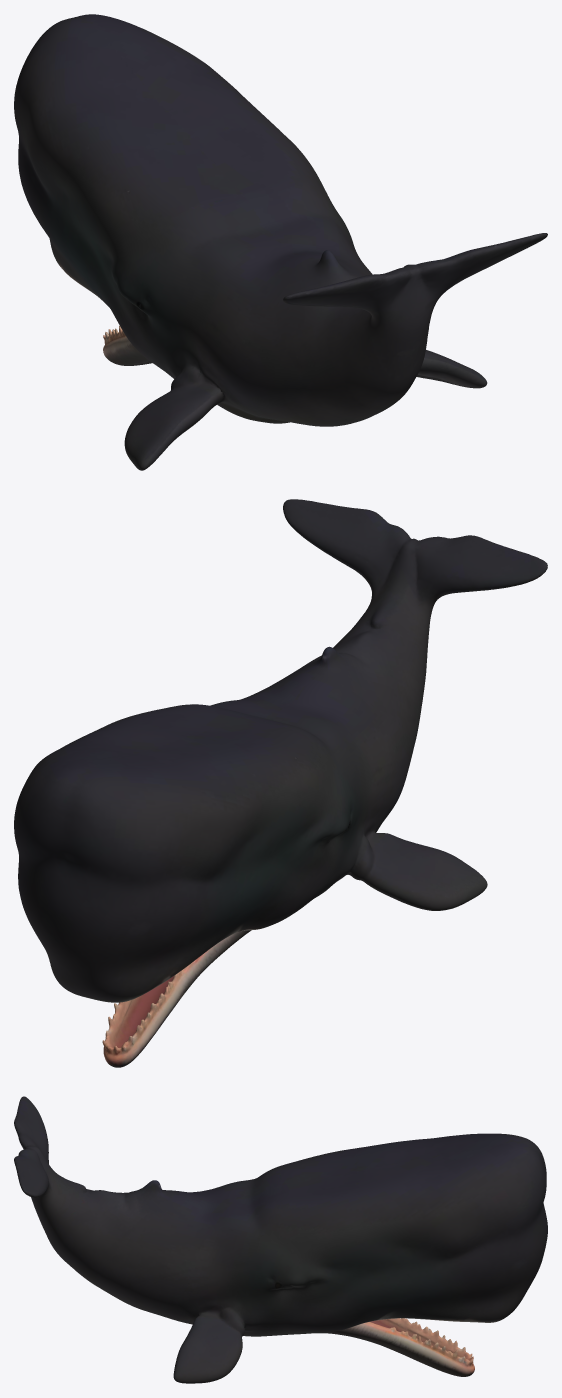
Rendered from SpermWhale.glb.
3 views of the same model, one above another, from view 1: azimuth 30°, elevation 25°; view 2: azimuth 150°, elevation 25°; view 3: azimuth 270°, elevation 25° (orthographic). The views are drawn at different scales.
Parts seen in each view (by area): view 1: tripo_node_dd7abd60-6eb1-4b31-a01f-bc0beaa21657; view 2: tripo_node_dd7abd60-6eb1-4b31-a01f-bc0beaa21657; view 3: tripo_node_dd7abd60-6eb1-4b31-a01f-bc0beaa21657.
Part boxes in pixels (x1,y1,x2,y2): tripo_node_dd7abd60-6eb1-4b31-a01f-bc0beaa21657: (14,14,547,470); tripo_node_dd7abd60-6eb1-4b31-a01f-bc0beaa21657: (14,499,547,1067); tripo_node_dd7abd60-6eb1-4b31-a01f-bc0beaa21657: (14,1096,547,1383).
Size of the model in its own units: 0.5534 by 0.4887 by 0.9999.
1 material, 1 textured.
